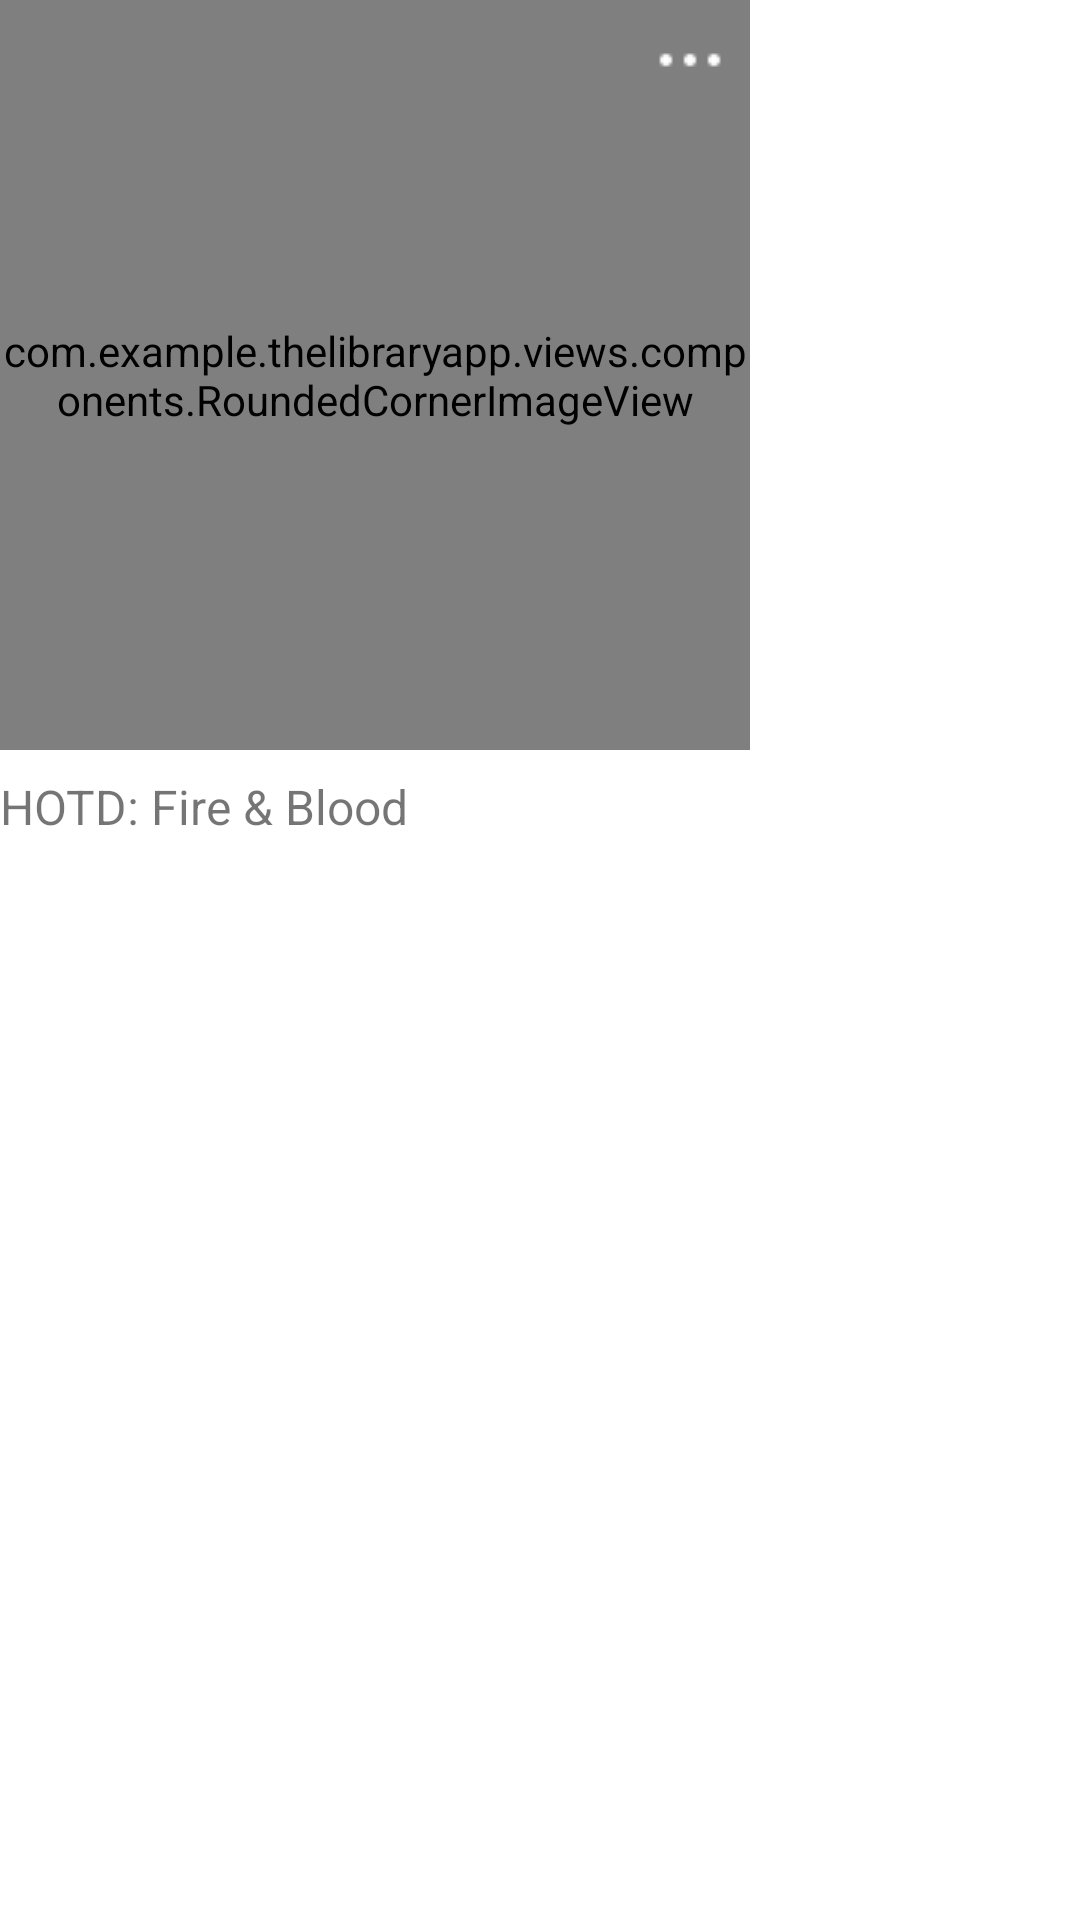

Icon click points for this 1080 × 1920 phone screenshot, format (x,y):
option: (690,60)
